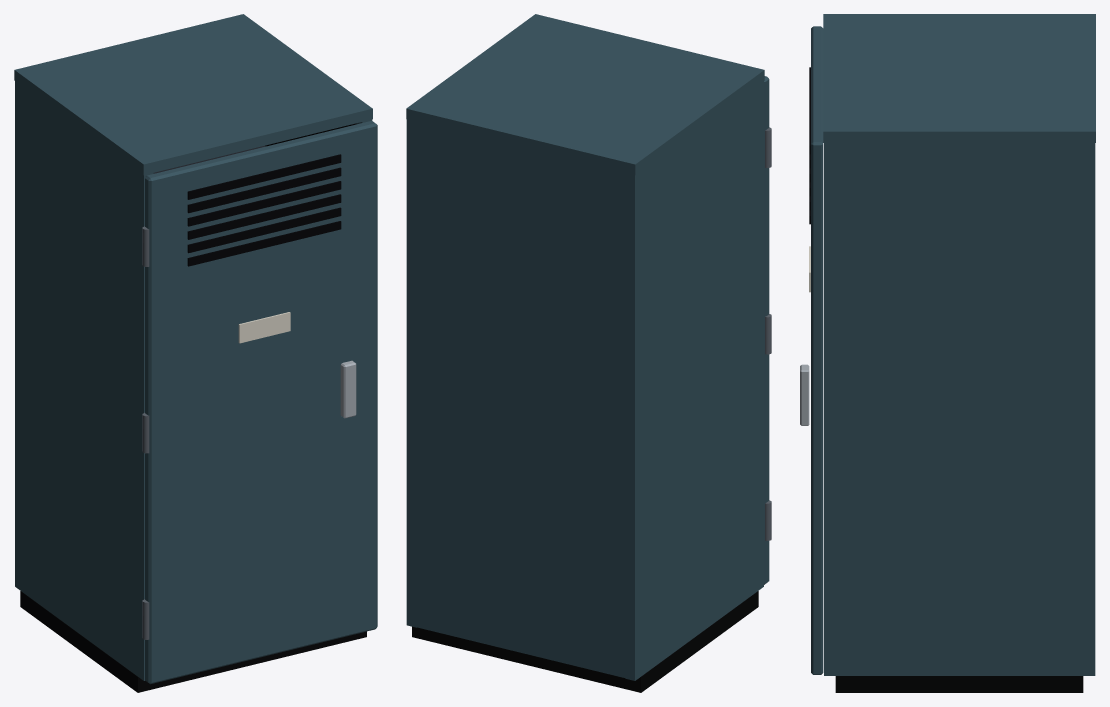
Rendered from locker_tall.glb.
3 renders of one model, left to right at view 1: azimuth 30°, elevation 25°; view 2: azimuth 150°, elevation 25°; view 3: azimuth 270°, elevation 25°, orthographic. The views are drawn at different scales.
Parts seen in each view (by area): view 1: door, locker_tall; view 2: locker_tall, door; view 3: locker_tall, door.
Boxes of the visible parts, box(x1,y1,x2,y2) form: door: box(142, 120, 377, 684); locker_tall: box(14, 14, 372, 692); locker_tall: box(406, 14, 764, 692); door: box(764, 76, 771, 584); locker_tall: box(823, 14, 1095, 692); door: box(800, 26, 823, 674).
Bounding box in the file's own units: 0.915 × 2 × 0.955.
